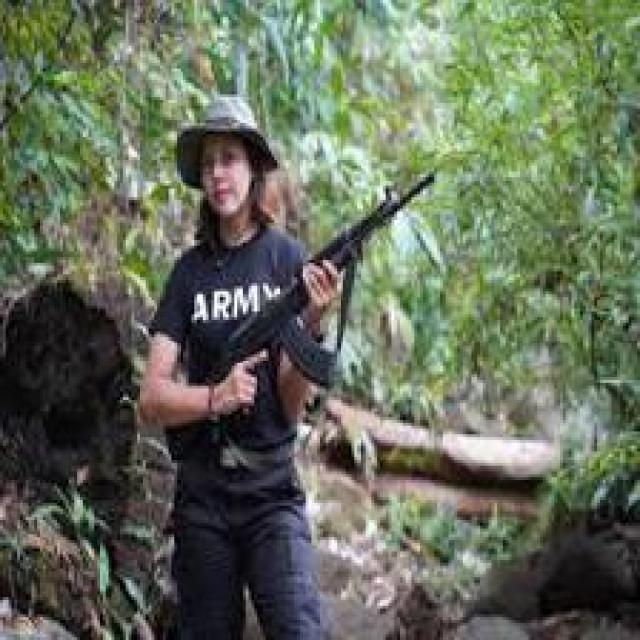Rifle: (203, 172, 466, 428)
